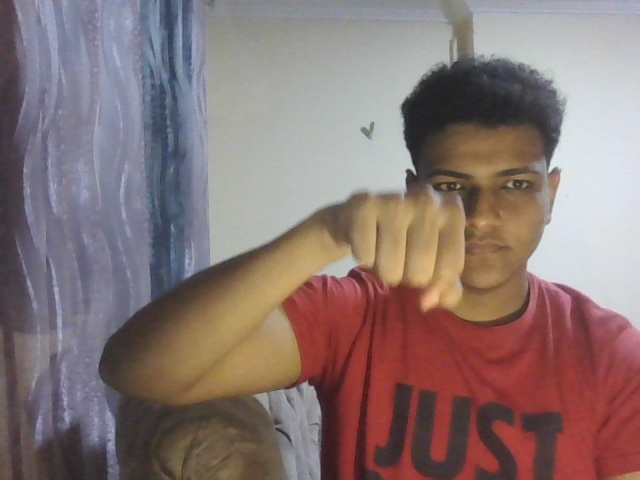yes: (327, 168, 469, 339)
